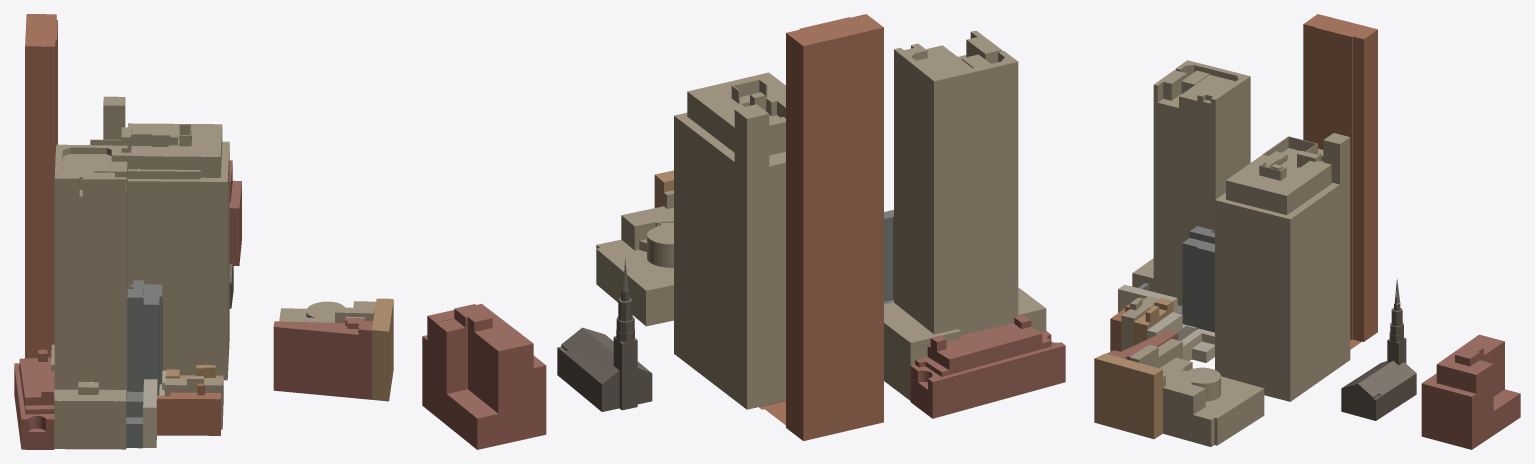
Rendered from tile--6_11.glb.
3 views of the same model, side by side, from view 1: azimuth 30°, elevation 25°; view 2: azimuth 150°, elevation 25°; view 3: azimuth 270°, elevation 25° (orthographic). The views are drawn at different scales.
Parts seen in each view (by area): view 1: wall, roof; view 2: wall, roof; view 3: wall, roof.
Boxes of the visible parts, box(x1,y1,x2,y2) form: wall: box(14, 15, 393, 449); roof: box(14, 14, 393, 431); wall: box(422, 27, 1065, 449); roof: box(422, 14, 1065, 425); wall: box(1094, 24, 1520, 449); roof: box(1095, 14, 1519, 419).
Size of the model in its own units: 214 by 179 by 227.
